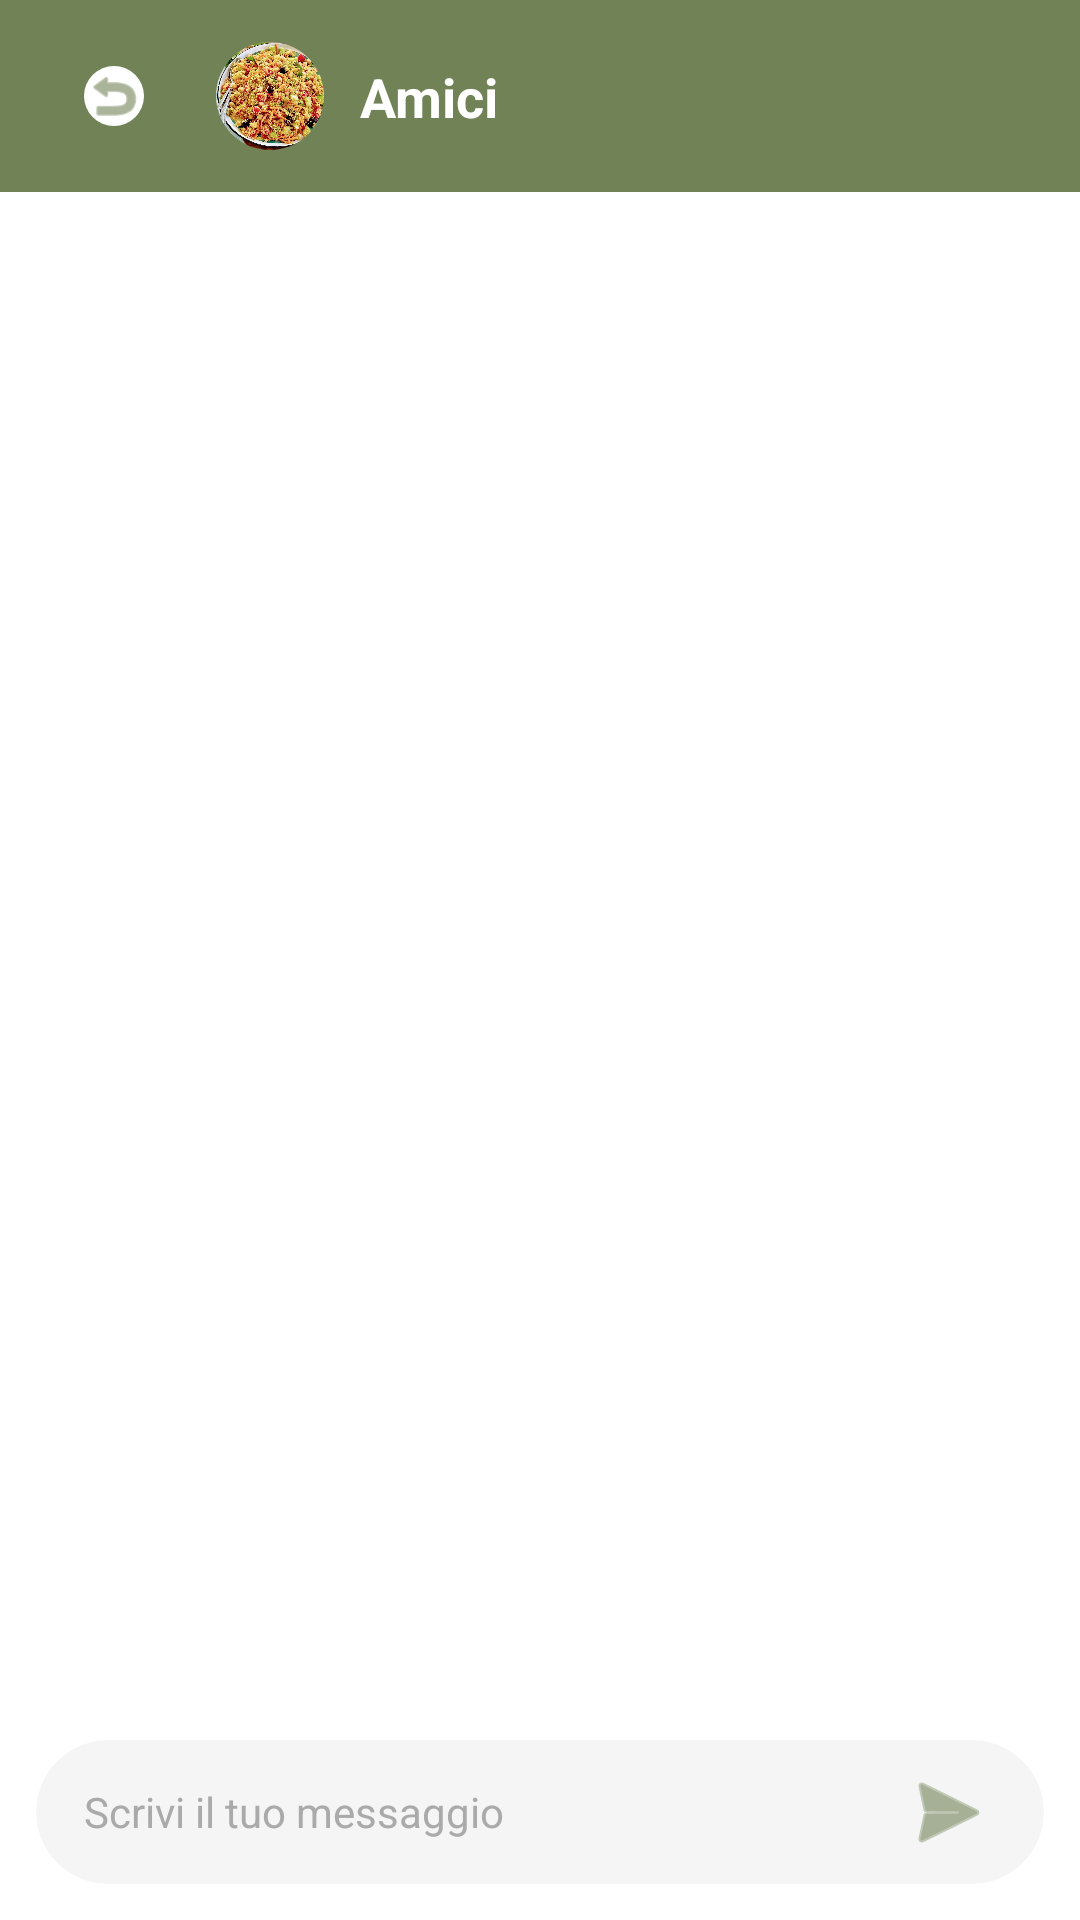

Icons on this 1080x1920 Android screen, each with its box as Rect(x1, y1, x2, y2):
cous: Rect(216, 42, 324, 150)
revert: Rect(84, 66, 144, 126)
send: Rect(918, 1782, 979, 1843)
